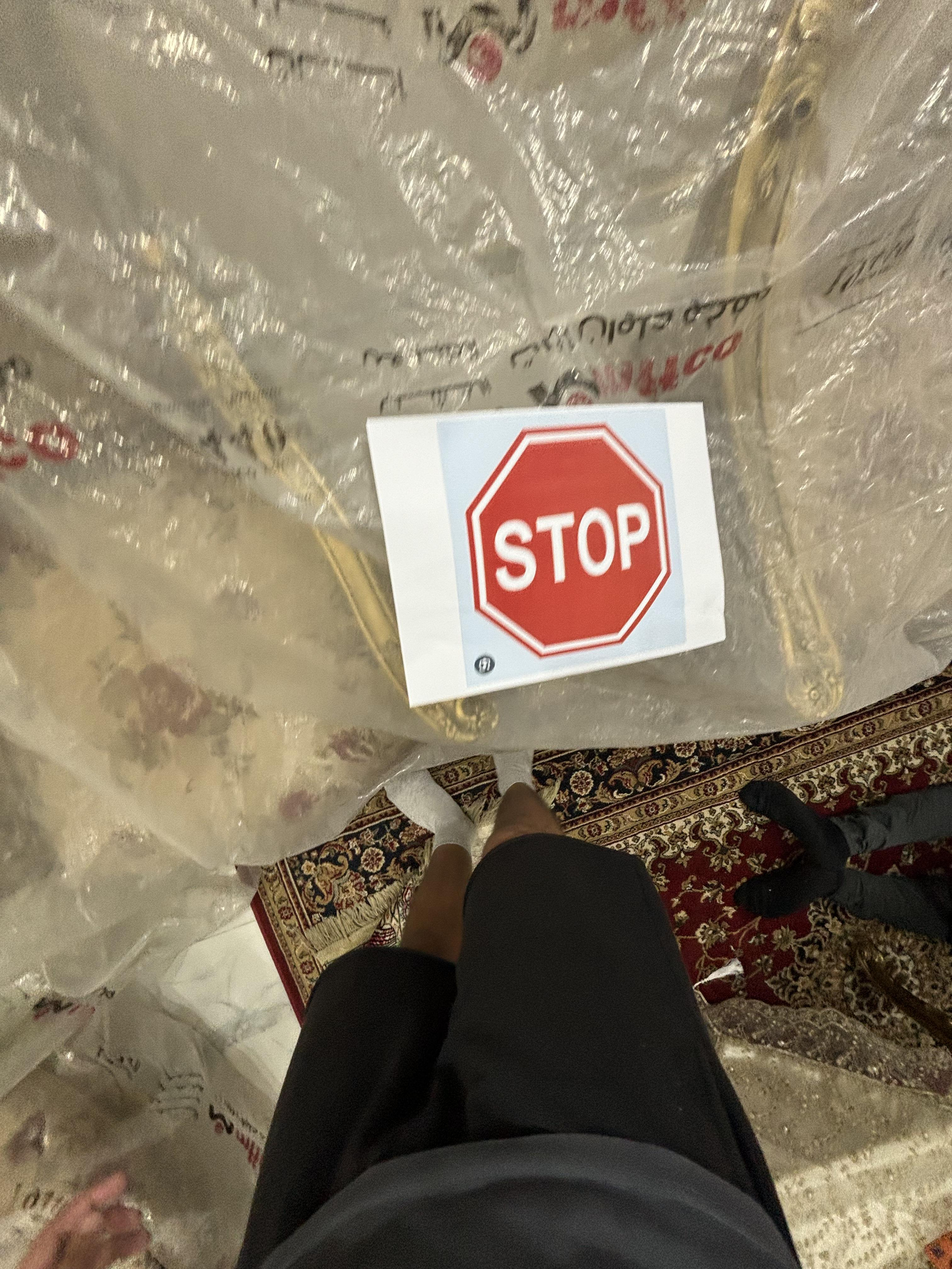Stop: (464, 415, 683, 659)
